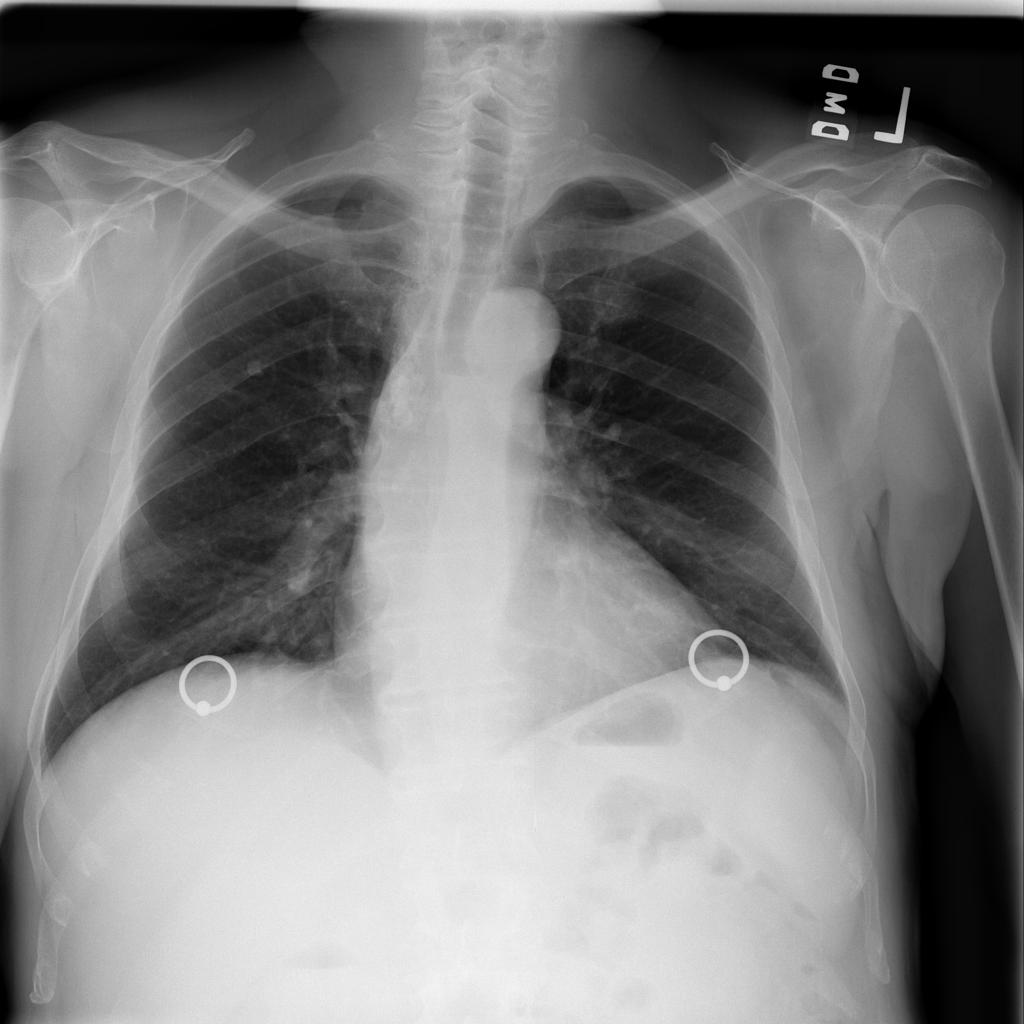nodule: (235, 348, 274, 384)
